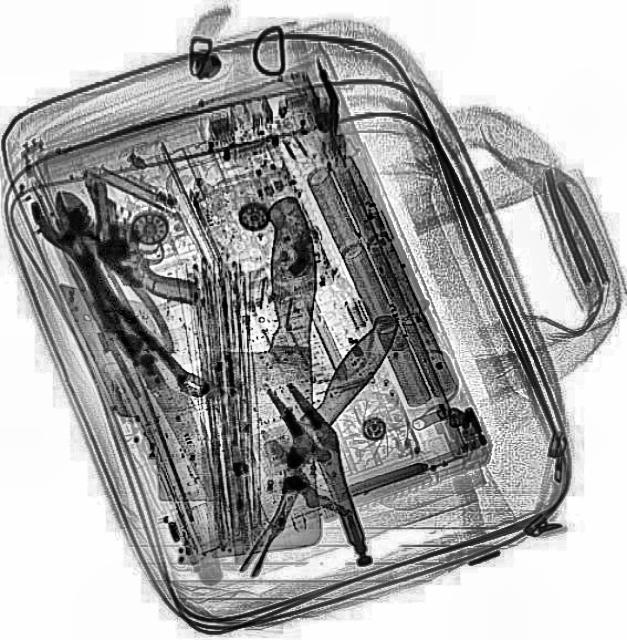Gun: (89, 176, 201, 302)
Knife: (215, 304, 405, 568), (196, 194, 322, 554)
Pliers: (33, 180, 178, 374)
Wrench: (19, 185, 214, 408)
